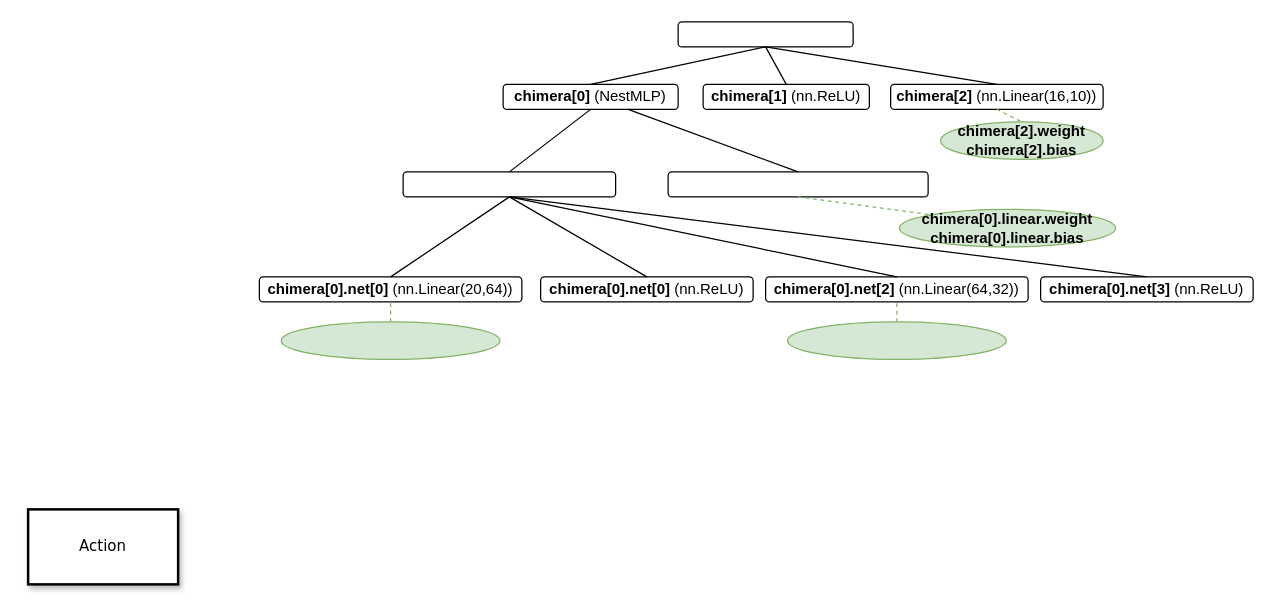
The diagram is 1275 pixels wide and 616 high, and some of its shapes have lost their labels. The shapes that lost their labels are listed below. From the top down, each one's centre as x and y in pixels, then its label:
At (x=765, y=34): "chimera (nn.Sequential)".
At (x=509, y=184): "chimera[0] .net (nn.Sequential)".
At (x=797, y=184): "chimera[0] .linear (nn.Linear(32,16))".
At (x=390, y=340): "chimera[0] .net[0].weight chimera[0] .net[0].bias".
At (x=896, y=340): "chimera[0] .net[2].weight chimera[0] .net[2].bias".
